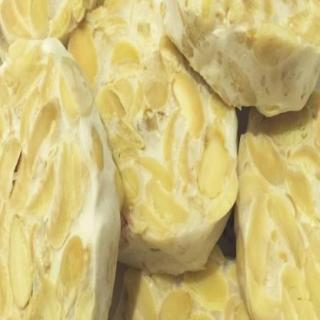Tempe: (1, 40, 123, 320)
